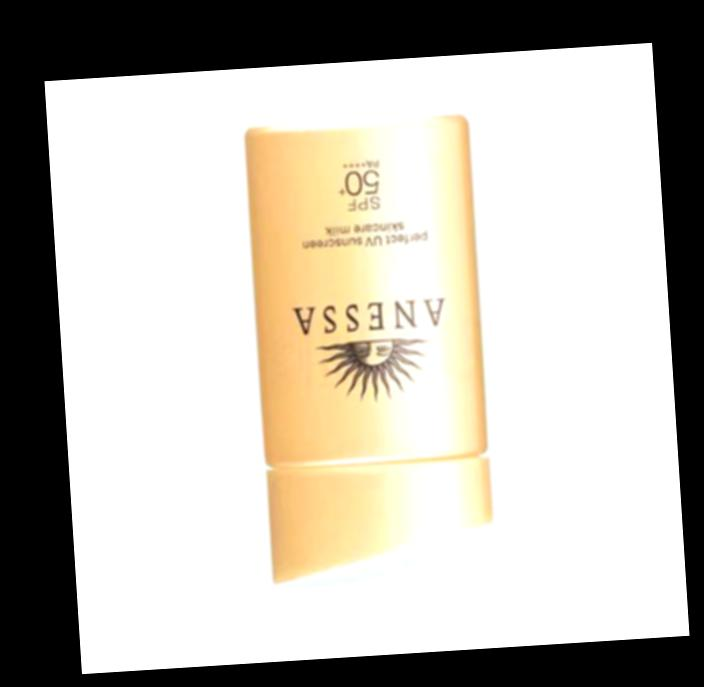cosmetic: (241, 119, 495, 589)
